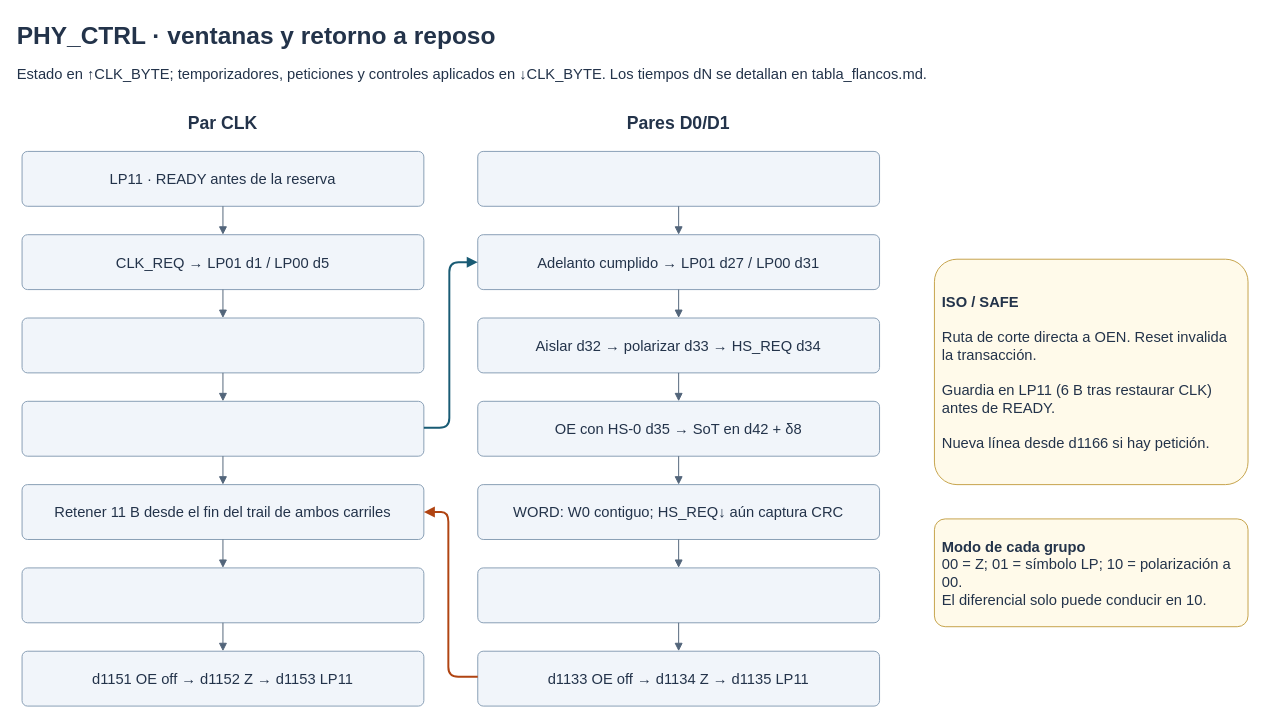
This 1278x723 diagram has some shape labels left out. Here are the shapes that lost their labels. From the top down, the centre of each, then its label:
At [678,178]: "LP11 o LPDT · símbolos de PHY_IF".
At [222,345]: "Aislar d6 → polarizar d7 → OE con HS-0 d8".
At [222,428]: "CLK_TOGGLE d22 → período íntegro ≤ d25".
At [222,595]: "d1144: CLK_TOGGLE=0 → última bajada ≤ d1147".
At [678,595]: "TRAIL por carril + margen de latencia δ8".
